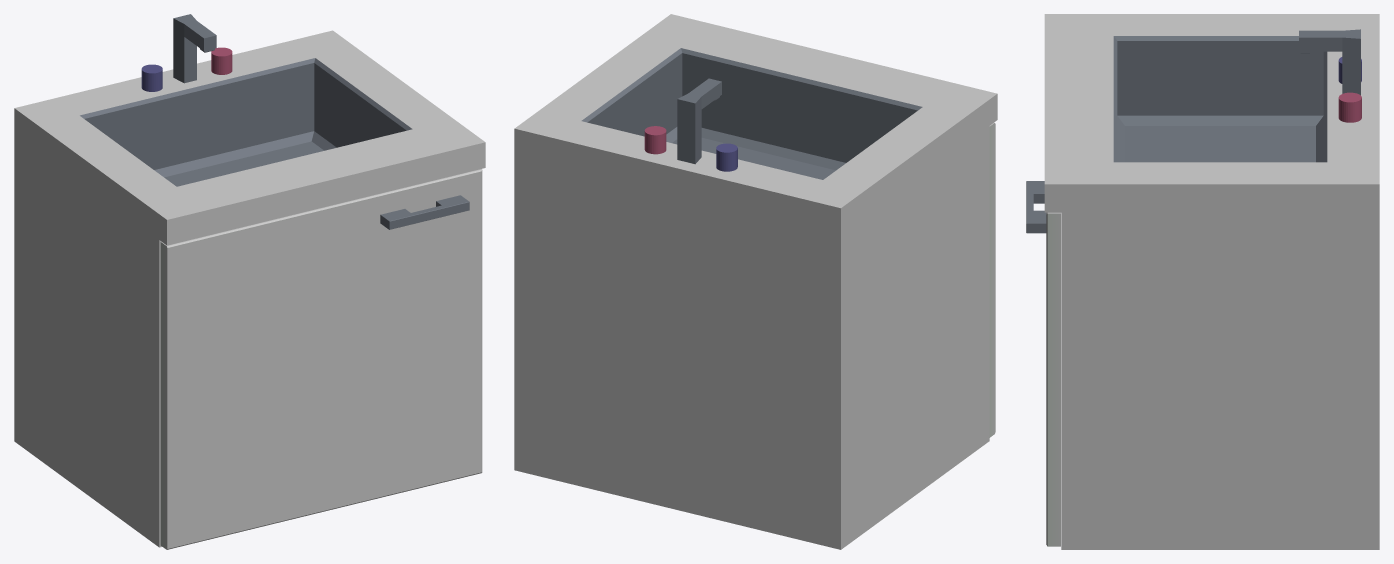
File: tiskikaappi_GJ22.fbx
3 views of the same model, side by side, from view 1: azimuth 30°, elevation 25°; view 2: azimuth 150°, elevation 25°; view 3: azimuth 270°, elevation 25° (orthographic). The views are drawn at different scales.
Parts seen in each view (by area): view 1: Kaappi, Ovi; view 2: Kaappi, Ovi; view 3: Kaappi, Ovi.
Part boxes in pixels (bbox=[...]): Kaappi: bbox=[14, 14, 485, 547]; Ovi: bbox=[160, 169, 482, 549]; Kaappi: bbox=[514, 14, 997, 549]; Ovi: bbox=[989, 122, 995, 437]; Kaappi: bbox=[1044, 14, 1379, 549]; Ovi: bbox=[1026, 181, 1060, 546].
Bounding box in the file's own units: 100 × 118 × 87.57.
